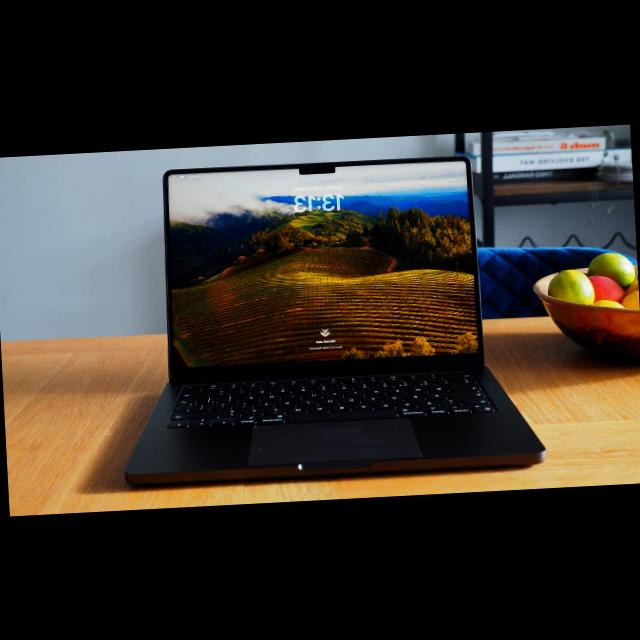laptop: (107, 146, 543, 494)
